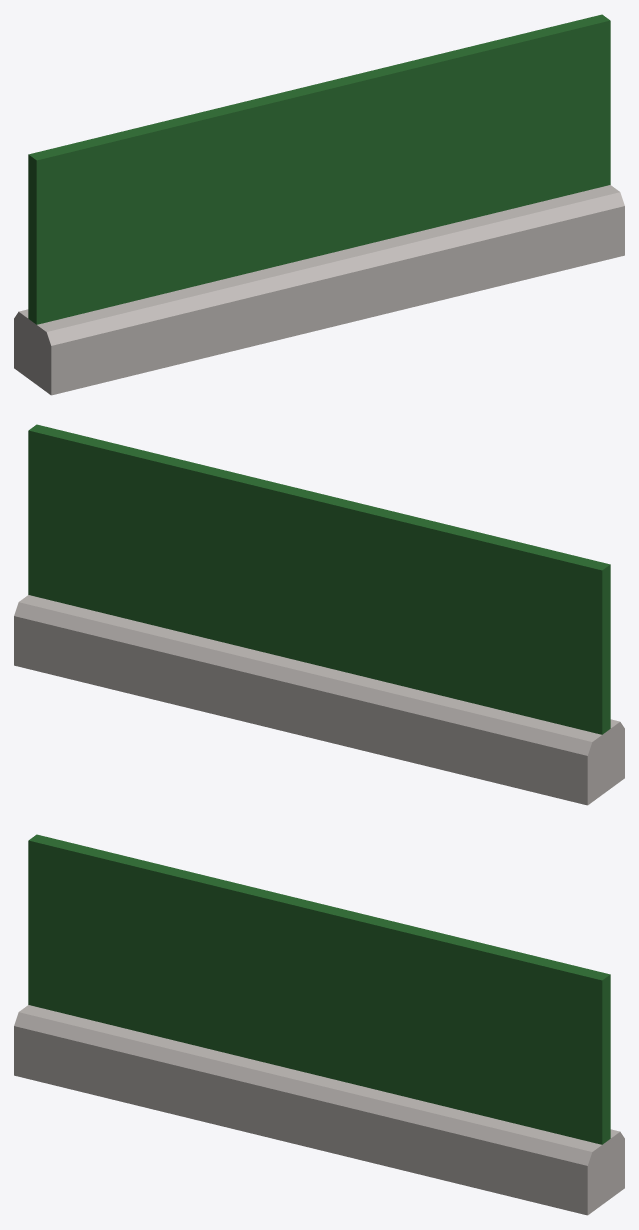
The model's file is fence-stone-metal.glb.
3 renders of one model, top to bottom at view 1: azimuth 30°, elevation 25°; view 2: azimuth 150°, elevation 25°; view 3: azimuth 330°, elevation 25°, orthographic.
Visible parts, largest first — view 1: fence-stone-metal; view 2: fence-stone-metal; view 3: fence-stone-metal.
Boxes of the visible parts, box(x1,y1,x2,y2) form: fence-stone-metal: box(14, 14, 624, 395); fence-stone-metal: box(14, 424, 624, 805); fence-stone-metal: box(14, 834, 624, 1215).
Size of the model in its own units: 4 by 1.5 by 0.45.
1 material, 1 textured.
